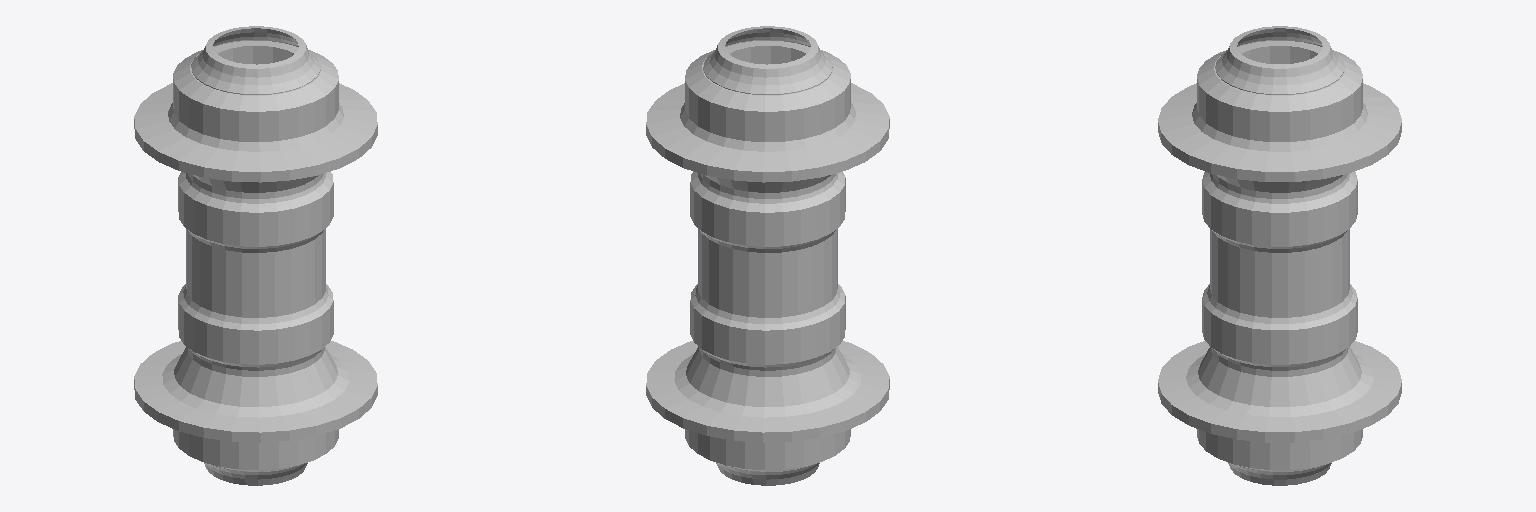
The model's file is FRONTHUBSHELL.obj.
3 views of the same model, side by side, from view 1: azimuth 30°, elevation 25°; view 2: azimuth 150°, elevation 25°; view 3: azimuth 270°, elevation 25° (orthographic).
Parts seen in each view (by area): view 1: Mini_Front; view 2: Mini_Front; view 3: Mini_Front.
Boxes of the visible parts, <box> form: Mini_Front: <box>134,26,377,485</box>; Mini_Front: <box>646,26,889,485</box>; Mini_Front: <box>1158,26,1401,485</box>.
Size of the model in its own units: 0.0536 by 0.1023 by 0.054.